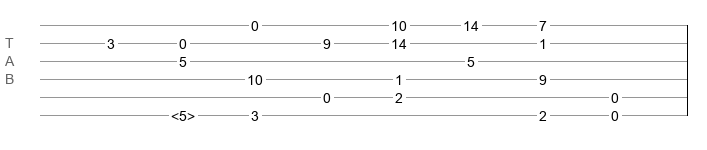0: (179, 36, 187, 46), (251, 18, 259, 28), (323, 90, 331, 100), (611, 108, 619, 118), (611, 90, 619, 100)
1: (395, 72, 403, 82), (539, 36, 547, 46)
10: (247, 72, 263, 82), (391, 18, 407, 28)
14: (391, 36, 407, 46), (463, 18, 479, 28)
2: (395, 90, 403, 100), (539, 108, 547, 118)
3: (107, 36, 115, 46), (251, 108, 259, 118)
5: (179, 54, 187, 64), (467, 54, 475, 64)
7: (539, 18, 547, 28)
9: (323, 36, 331, 46), (539, 72, 547, 82)
harmonic: (171, 108, 195, 118)
